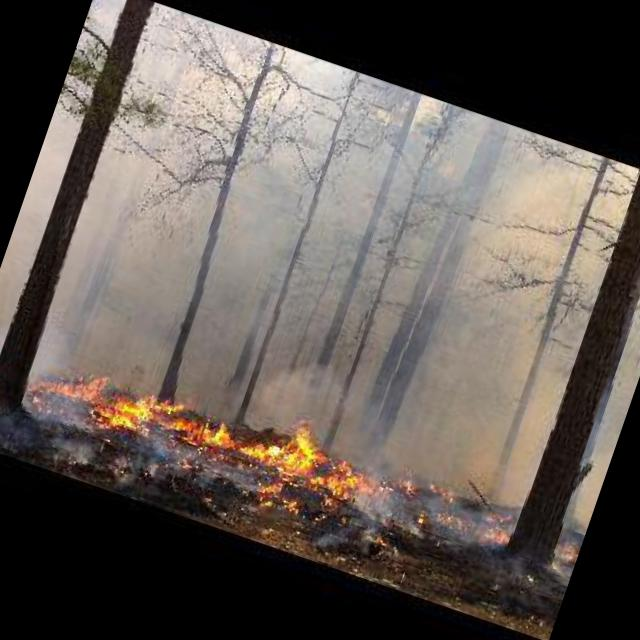fire: (105, 361, 379, 502), (408, 498, 512, 556), (382, 456, 466, 512), (246, 475, 308, 523), (546, 530, 584, 584), (314, 486, 351, 518)
smoke: (42, 1, 640, 500), (0, 366, 261, 527), (307, 503, 381, 562), (352, 480, 421, 534)
